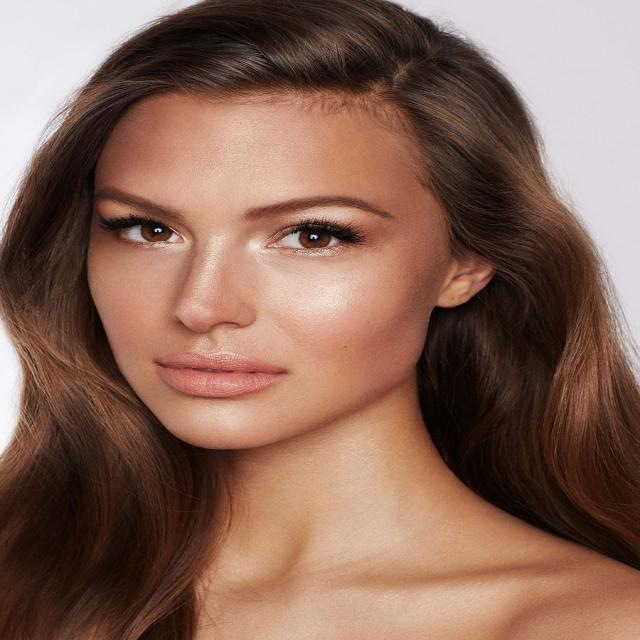earlobe: (434, 276, 466, 309)
eye: (265, 222, 364, 252), (113, 218, 189, 248)
nose: (166, 315, 246, 354)
